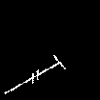treble_crochet: (5, 55, 65, 93)
